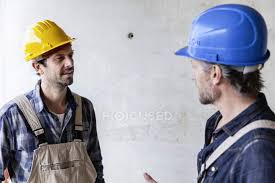helmet: (176, 6, 274, 67), (22, 17, 78, 59)
